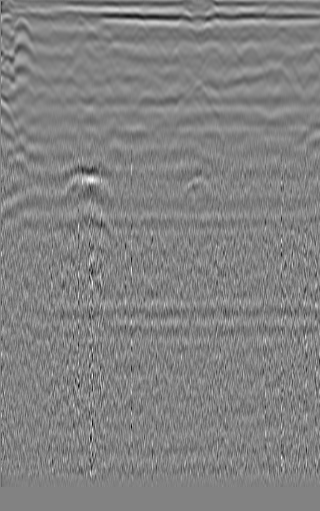상수: (267, 52, 305, 99)
오수: (0, 14, 40, 55)
우수: (147, 44, 190, 83)
